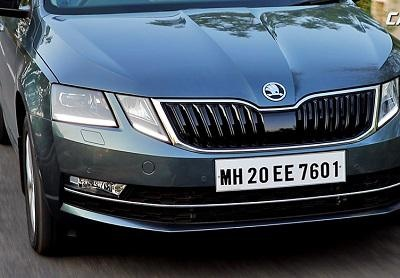number_plate: (216, 155, 343, 190)
